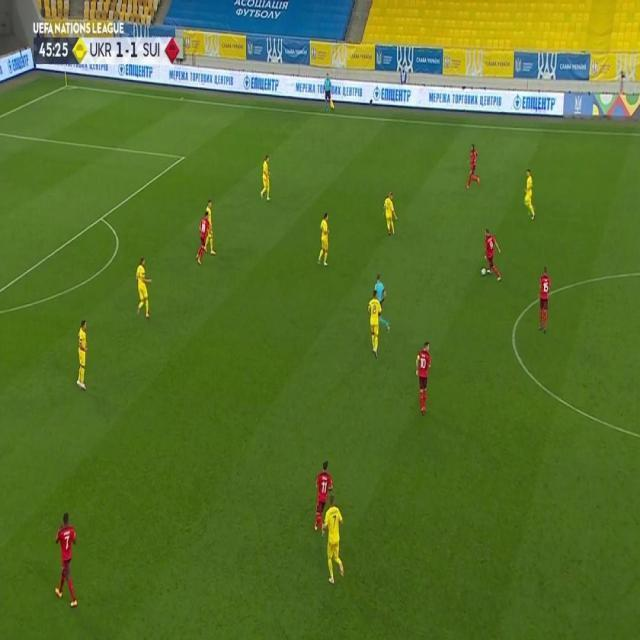ball: (481, 267, 487, 278)
player: (53, 511, 80, 609), (322, 494, 345, 587), (313, 459, 334, 535), (414, 340, 433, 418), (133, 255, 153, 317), (75, 317, 90, 390), (482, 227, 502, 281), (368, 289, 383, 359), (538, 265, 553, 335), (196, 209, 212, 267), (521, 168, 537, 221), (382, 190, 399, 238), (205, 198, 219, 256), (316, 212, 330, 267), (465, 143, 481, 189), (259, 153, 273, 201)
referee: (374, 275, 390, 333), (323, 71, 336, 114)
